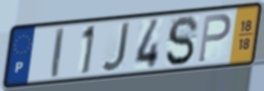1: (80, 24, 97, 76)
4: (132, 18, 161, 71)
I: (50, 26, 66, 80)
J: (100, 20, 133, 74)
P: (196, 12, 233, 64)
S: (164, 14, 201, 68)
